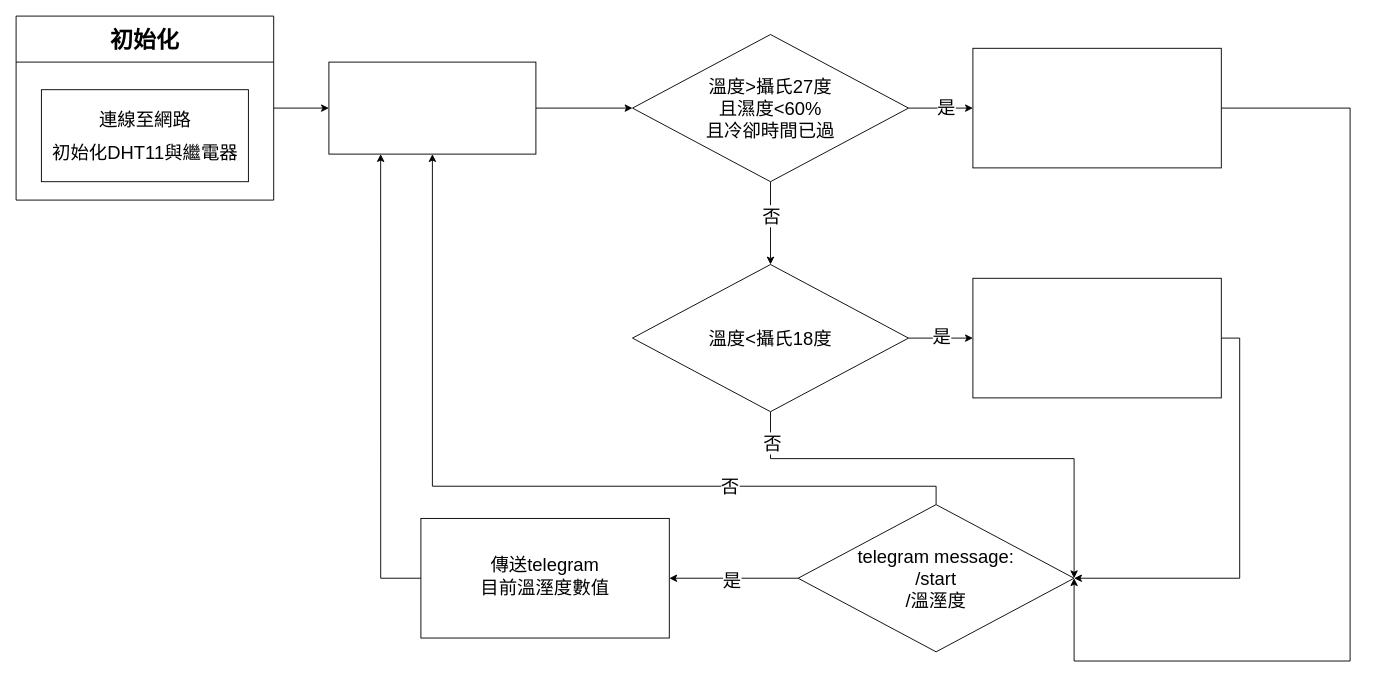
Image size: 1374x684. Some labels were removed from this diagram. The centre of each missing label's shape, as x and y in pixels:
"傳送 Telegram 通知，提示溫度過低需注意保溫" belongs at (x=1096, y=337).
"啟動霧化器 傳送telegram通知 目前溫溼度並提示已啟動噴水 更新冷卻時間" belongs at (x=1096, y=107).
"每五秒 讀取溫度與濕度資料" belongs at (x=432, y=107).
